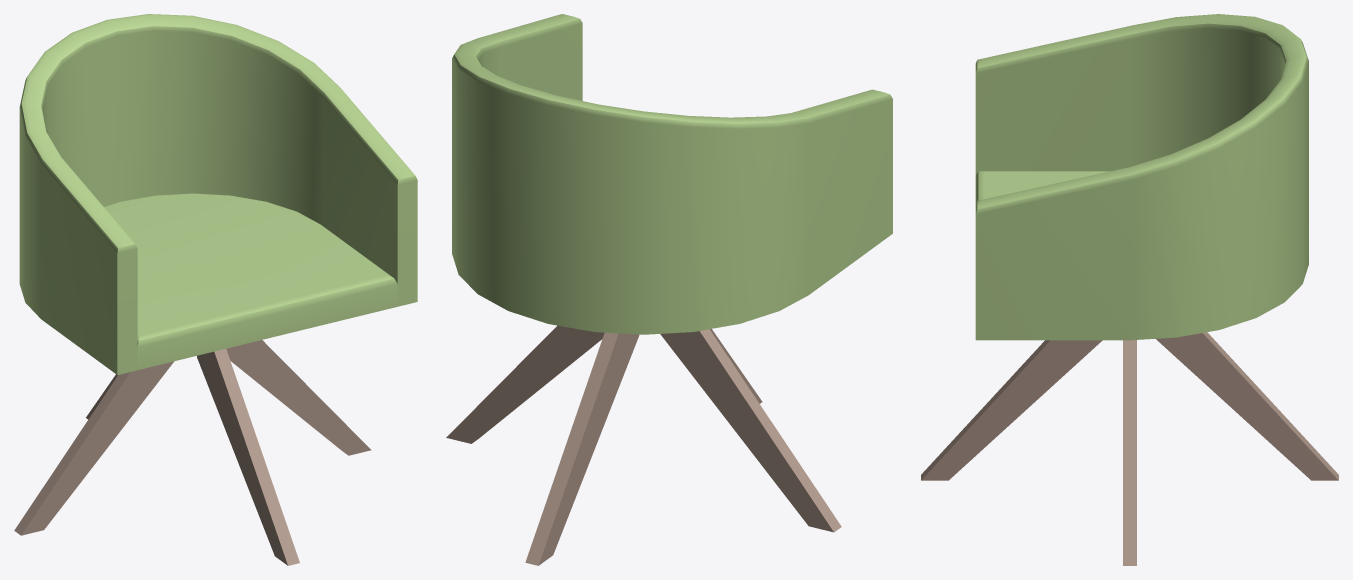
The model's file is ModernChair.fbx.
The picture shows the model from 3 angles, left to right: view 1: azimuth 30°, elevation 25°; view 2: azimuth 150°, elevation 25°; view 3: azimuth 270°, elevation 25°; orthographic projection. The views are drawn at different scales.
Visible parts, largest first — view 1: ModernChair:meetingChair; view 2: ModernChair:meetingChair; view 3: ModernChair:meetingChair.
Part boxes in pixels (bbox=[...]): ModernChair:meetingChair: bbox=[14, 14, 417, 565]; ModernChair:meetingChair: bbox=[446, 14, 892, 565]; ModernChair:meetingChair: bbox=[921, 14, 1338, 565].
Bounding box in the file's own units: 5.92 × 6.59 × 5.92.
